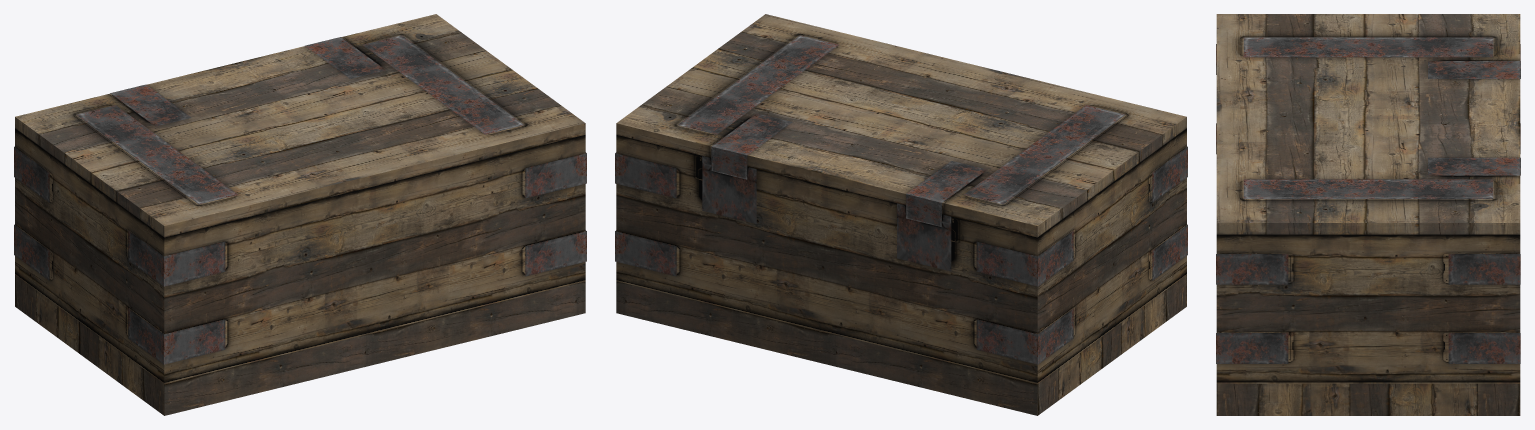
The model's file is items_box_wooden_small_lod02.fbx.
The picture shows the model from 3 angles, left to right: view 1: azimuth 30°, elevation 25°; view 2: azimuth 150°, elevation 25°; view 3: azimuth 270°, elevation 25°; orthographic projection.
Visible parts, largest first — view 1: items_box_wooden_small_lod02; view 2: items_box_wooden_small_lod02; view 3: items_box_wooden_small_lod02.
Boxes of the visible parts, <box> form: items_box_wooden_small_lod02: <box>14,14,586,415</box>; items_box_wooden_small_lod02: <box>615,14,1187,415</box>; items_box_wooden_small_lod02: <box>1216,14,1520,415</box>.
Size of the model in its own units: 93.81 by 40.28 by 57.58.
